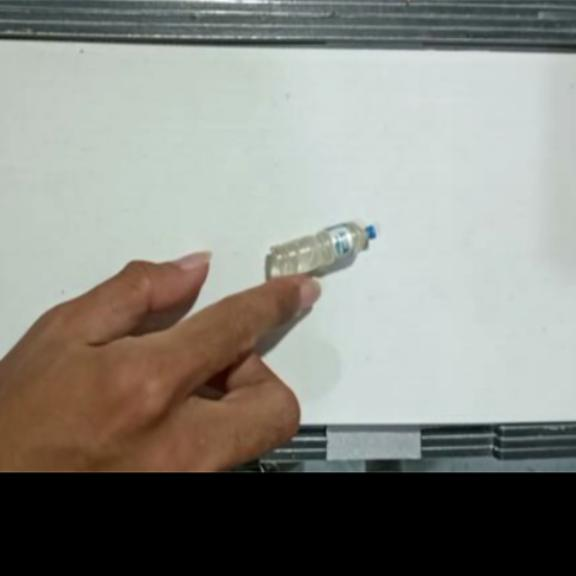Plastik: (268, 219, 378, 280)
